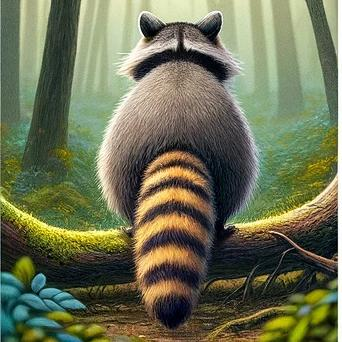raccoon: (87, 3, 269, 340)
